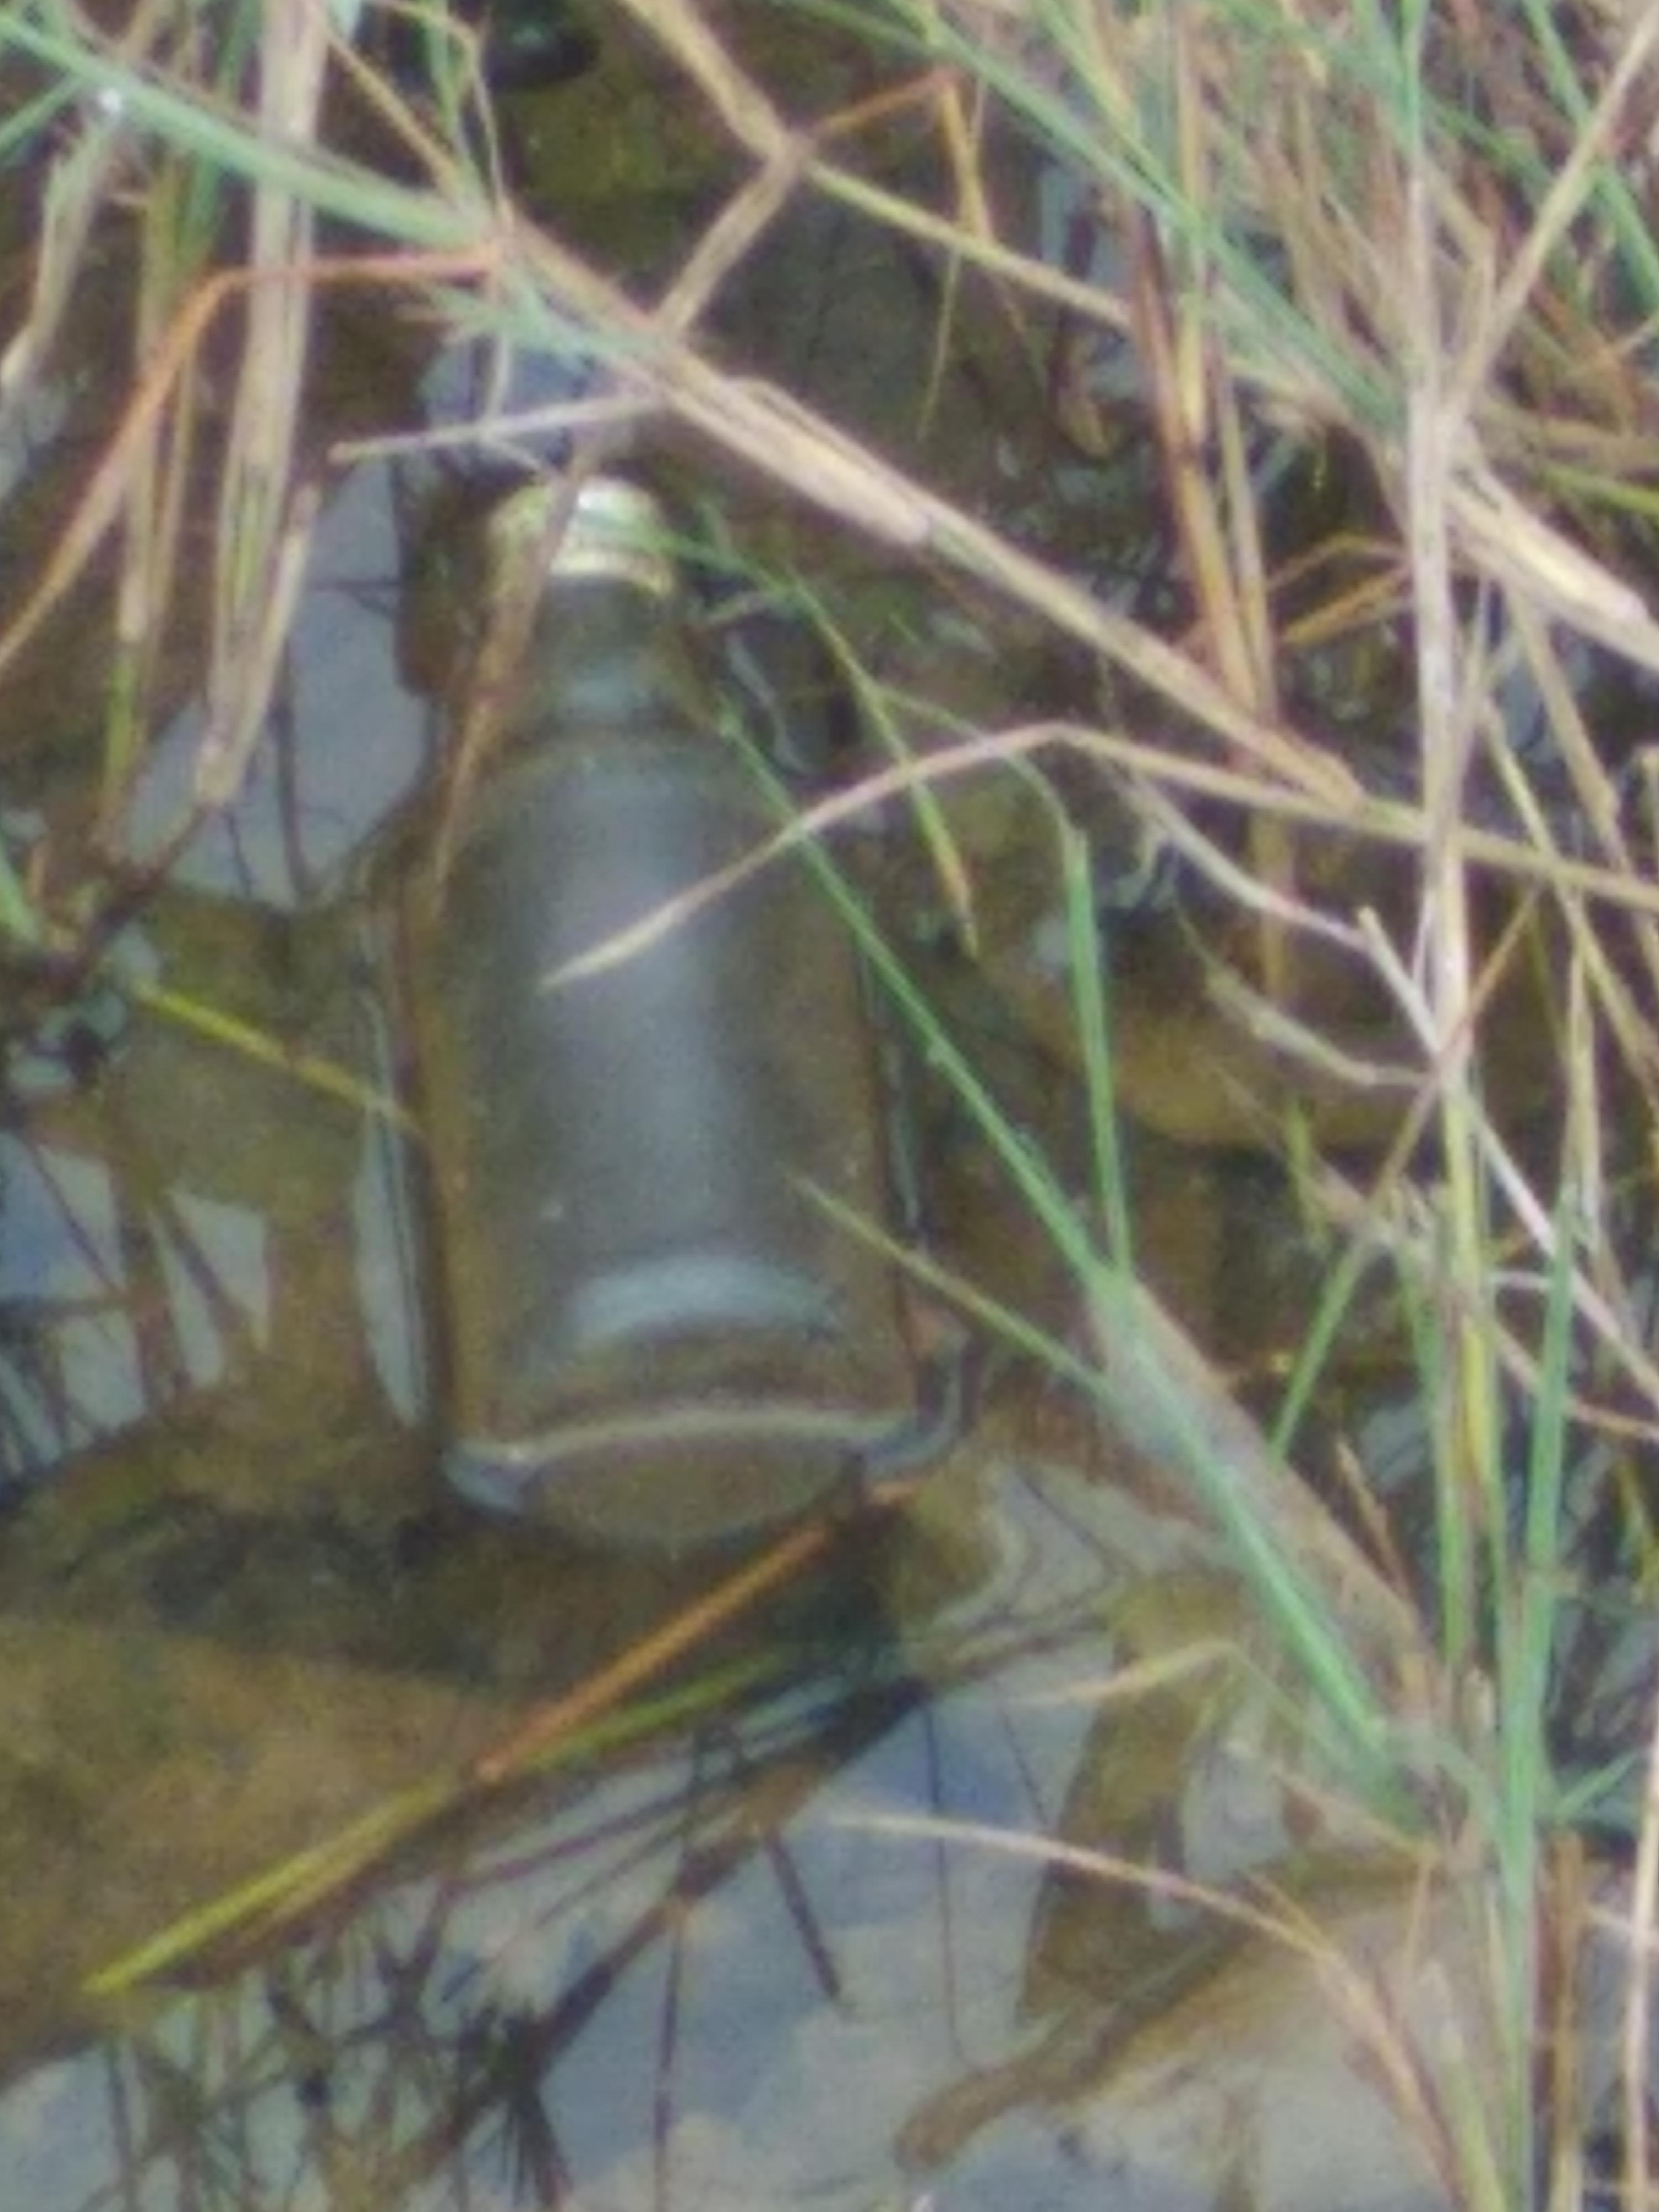organic: (403, 453, 972, 1569)
